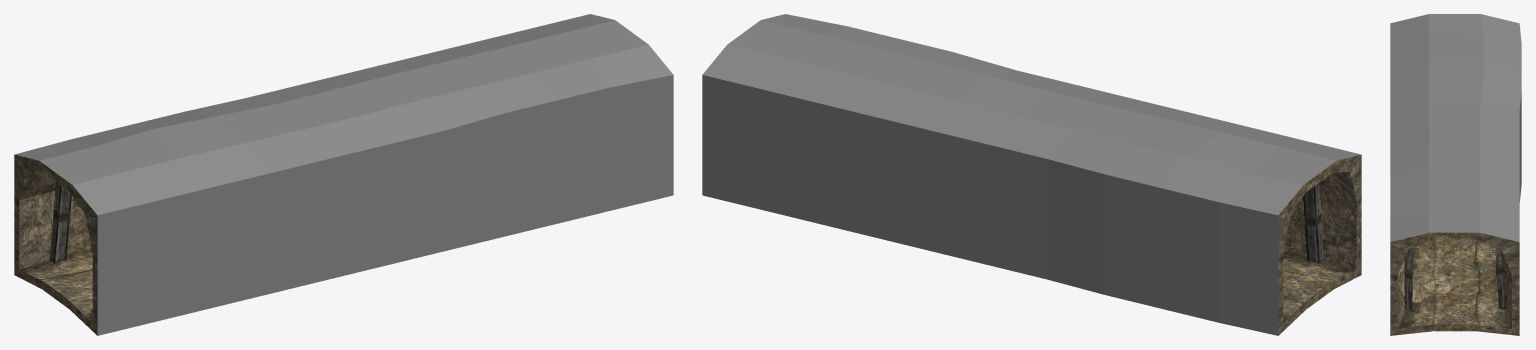
File: svgoldmine01-1.dae
3 views of the same model, side by side, from view 1: azimuth 30°, elevation 25°; view 2: azimuth 150°, elevation 25°; view 3: azimuth 270°, elevation 25° (orthographic). The views are drawn at different scales.
Parts seen in each view (by area): view 1: unnamed_object1_sep1183-0, unnamed_object1_sep1045-0; view 2: unnamed_object1_sep1183-0, unnamed_object1_sep1045-0; view 3: unnamed_object1_sep1183-0, unnamed_object1_sep1045-0, cube864_copy43-0.
Part boxes in pixels (bbox=[...]): unnamed_object1_sep1183-0: bbox=[14, 14, 673, 335]; unnamed_object1_sep1045-0: bbox=[49, 182, 71, 263]; unnamed_object1_sep1183-0: bbox=[702, 14, 1361, 335]; unnamed_object1_sep1045-0: bbox=[1303, 183, 1323, 263]; unnamed_object1_sep1183-0: bbox=[1390, 14, 1521, 335]; unnamed_object1_sep1045-0: bbox=[1404, 247, 1506, 309]; cube864_copy43-0: bbox=[1398, 259, 1429, 302].
Bounding box in the file's own units: 6000 × 1344 × 1525.
